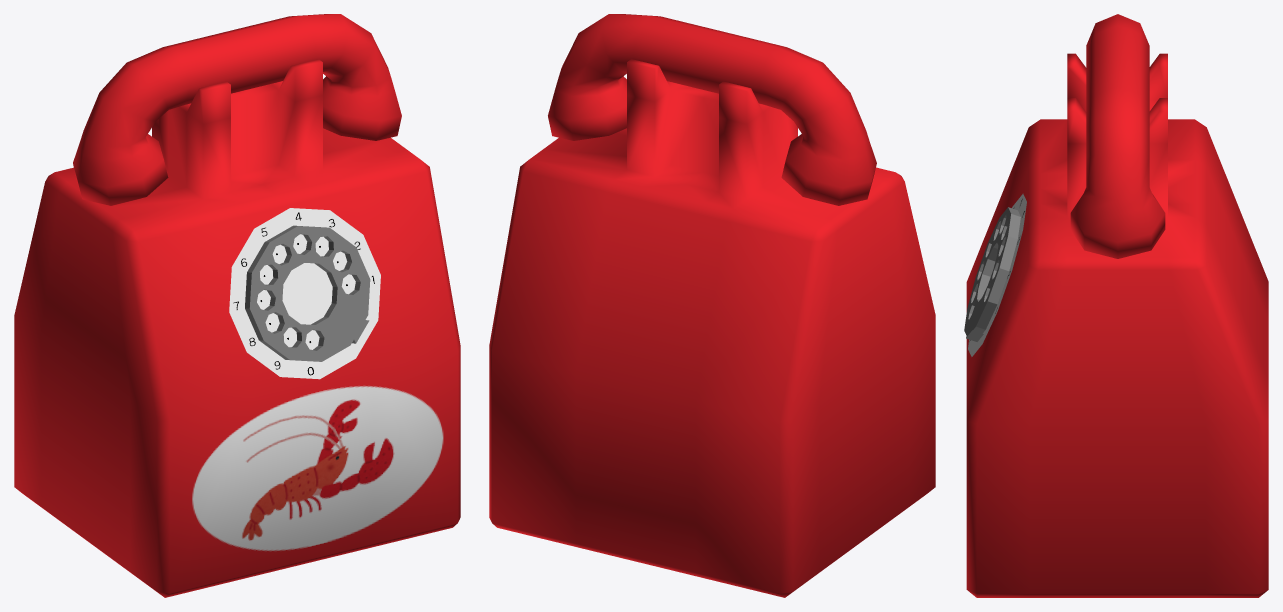
The model's file is zarigani_dial.fbx.
3 views of the same model, side by side, from view 1: azimuth 30°, elevation 25°; view 2: azimuth 150°, elevation 25°; view 3: azimuth 270°, elevation 25° (orthographic).
Parts seen in each view (by area): view 1: daial; view 2: daial; view 3: daial.
Part boxes in pixels (x1,y1,x2,y2): daial: [14, 14, 460, 597]; daial: [489, 14, 935, 597]; daial: [964, 14, 1268, 597].
Bounding box in the file's own units: 0.5752 × 0.8255 × 0.4822.
1 material, 1 textured.
